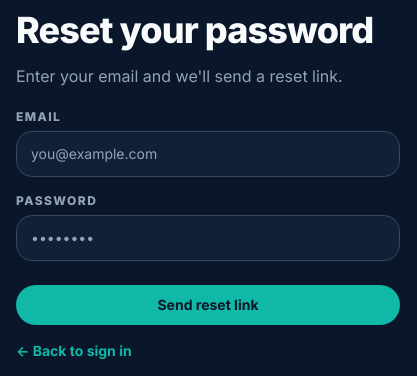
Test: AuthFormClient — happy paths and social providers › reset mode: requestPasswordReset success toggles resetSent UI (no error alert)
Step 1. Type "a@b.co" into the field labelled "Email" → (208, 154), box left=16, top=131, right=400, bottom=177
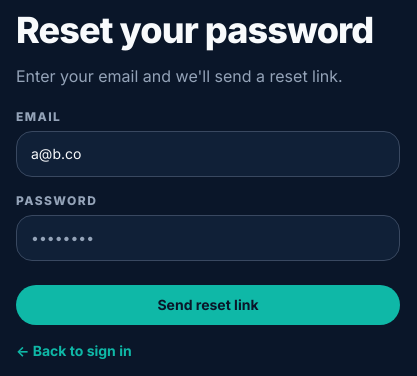
Step 2. Submit the form, box left=16, top=109, right=400, bottom=325
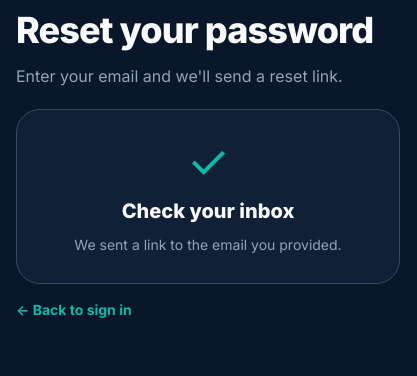
Expected: the heading "Check your inbox" is shown, left=122, top=199, right=294, bottom=223
